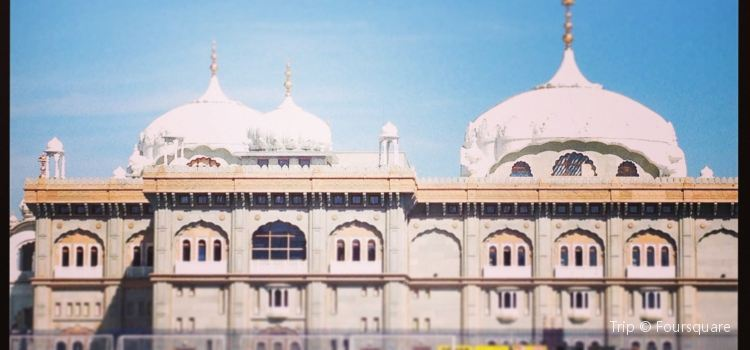Gurdwara: (37, 17, 718, 333)
